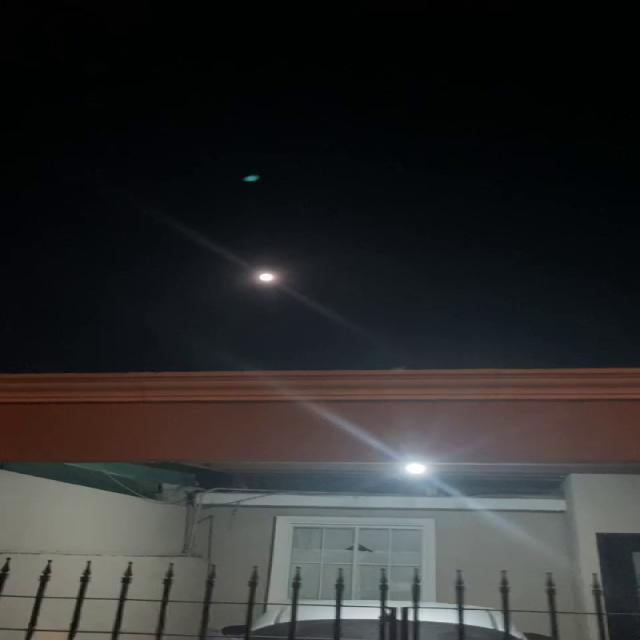moon: (243, 264, 283, 289)
